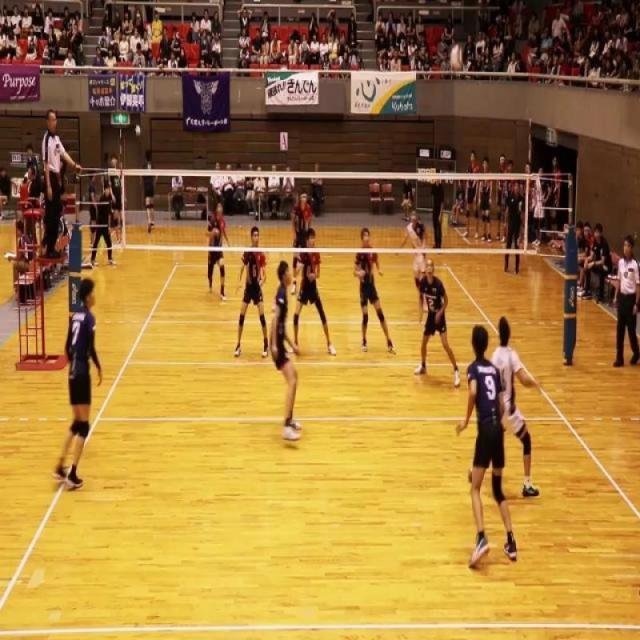volleyball: (450, 42, 462, 77)
